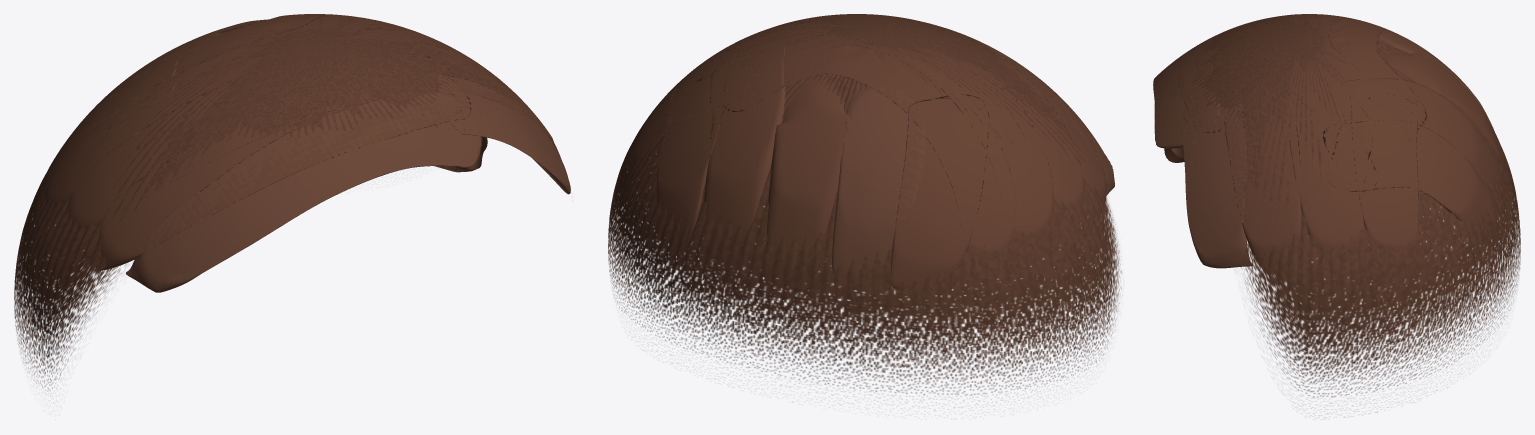
File: Masculine-taper-cap256-hair.glb
The picture shows the model from 3 angles, left to right: view 1: azimuth 30°, elevation 25°; view 2: azimuth 150°, elevation 25°; view 3: azimuth 270°, elevation 25°; orthographic projection. The views are drawn at different scales.
Parts seen in each view (by area): view 1: 226 hair / Hair252 / sculpted locks, 226 hair / Hair256 / selected B sides, 226 hair / Hair252 / gentle tonal variation; view 2: 226 hair / Hair256 / selected B sides, 226 hair / Hair252 / sculpted locks, 226 hair / Hair252 / gentle tonal variation; view 3: 226 hair / Hair256 / selected B sides, 226 hair / Hair252 / sculpted locks, 226 hair / Hair252 / gentle tonal variation.
Part boxes in pixels (bbox=[...]): 226 hair / Hair252 / sculpted locks: bbox=[40, 14, 555, 270]; 226 hair / Hair256 / selected B sides: bbox=[14, 18, 561, 390]; 226 hair / Hair252 / gentle tonal variation: bbox=[105, 33, 570, 292]; 226 hair / Hair256 / selected B sides: bbox=[608, 14, 1121, 406]; 226 hair / Hair252 / sculpted locks: bbox=[627, 14, 1106, 292]; 226 hair / Hair252 / gentle tonal variation: bbox=[832, 25, 1114, 288]; 226 hair / Hair256 / selected B sides: bbox=[1192, 14, 1520, 412]; 226 hair / Hair252 / sculpted locks: bbox=[1177, 14, 1505, 273]; 226 hair / Hair252 / gentle tonal variation: bbox=[1153, 24, 1494, 268].
Bounding box in the file's own units: 0.972 × 0.584 × 0.7003.
3 materials, 1 textured.
